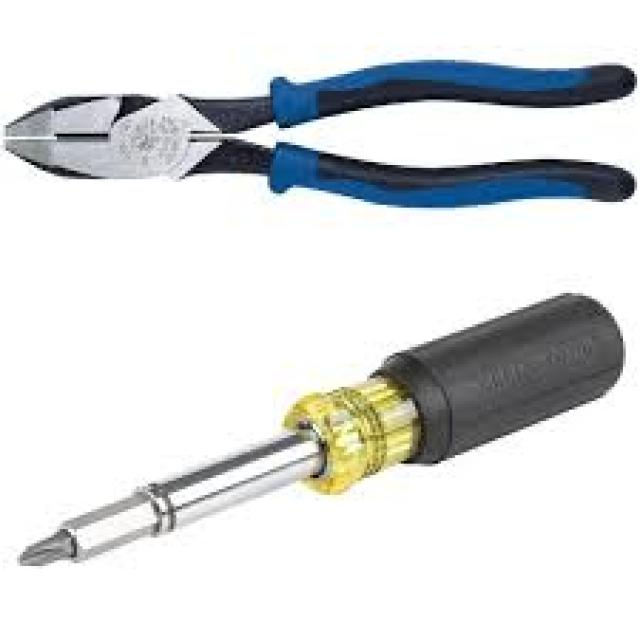Screwdriver: (20, 294, 620, 564)
